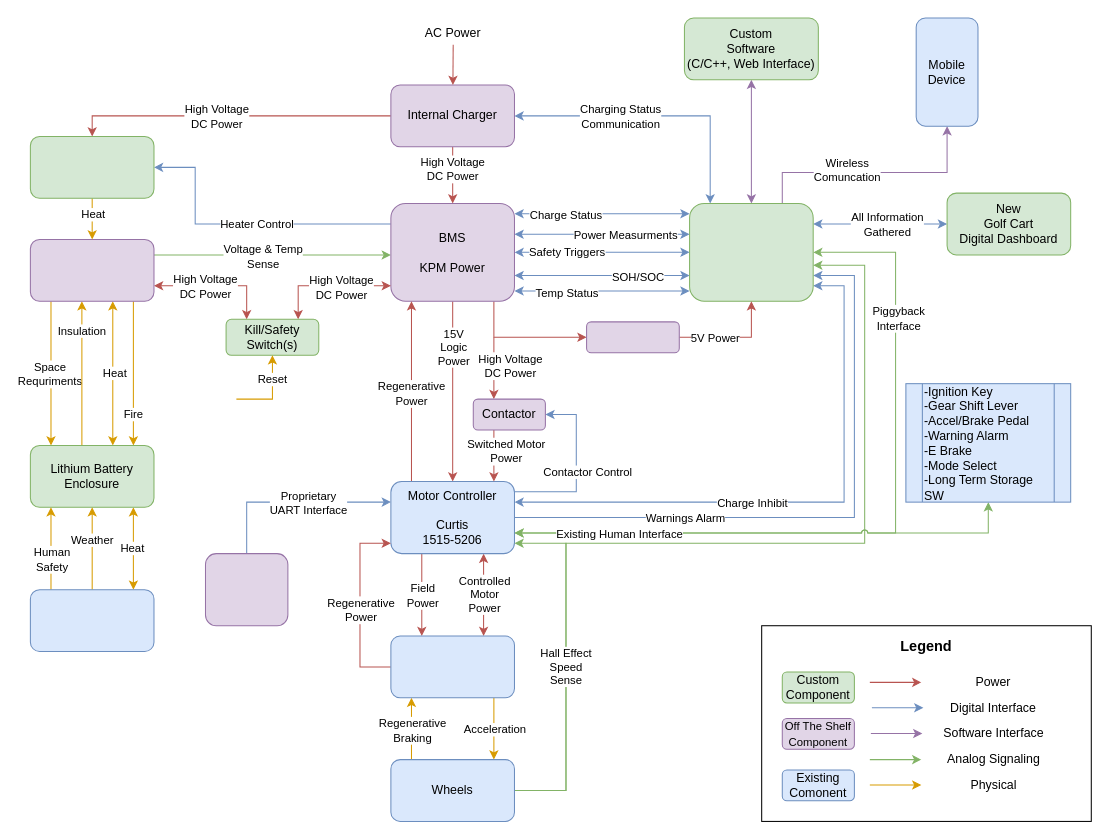
The diagram is 1109 pixels wide and 839 high, and some of its shapes have lost their labels. Each missing label, with the centre of its shape:
Communication Interface (Embedded System) (Raspberry Pi): (x=751, y=251)
DC Motor: (x=452, y=666)
External Programmer Curtis 1313: (x=246, y=589)
Heater: (x=91, y=166)
Lithium Battery Pack 48V - 250A Peak: (x=91, y=269)
LV Power Supply: (x=632, y=337)
The Enviroment: (x=91, y=620)
